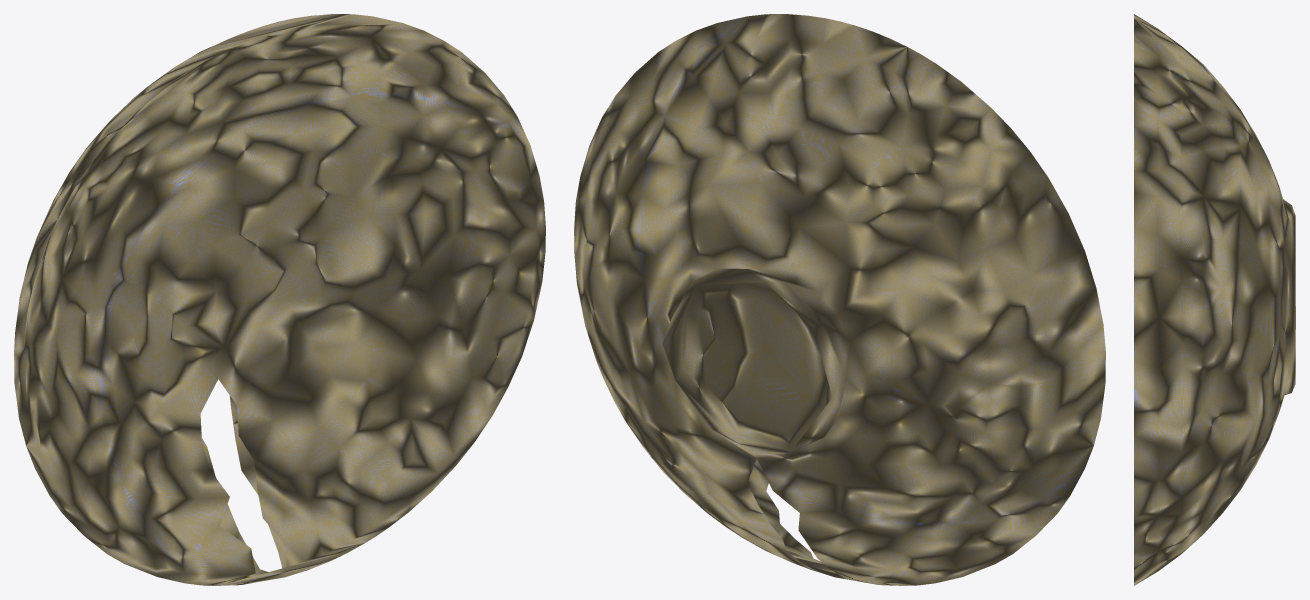
File: model_align.obj
3 views of the same model, side by side, from view 1: azimuth 30°, elevation 25°; view 2: azimuth 150°, elevation 25°; view 3: azimuth 270°, elevation 25° (orthographic). The views are drawn at different scales.
Size of the model in its own units: 0.1587 by 0.1588 by 0.0449.
